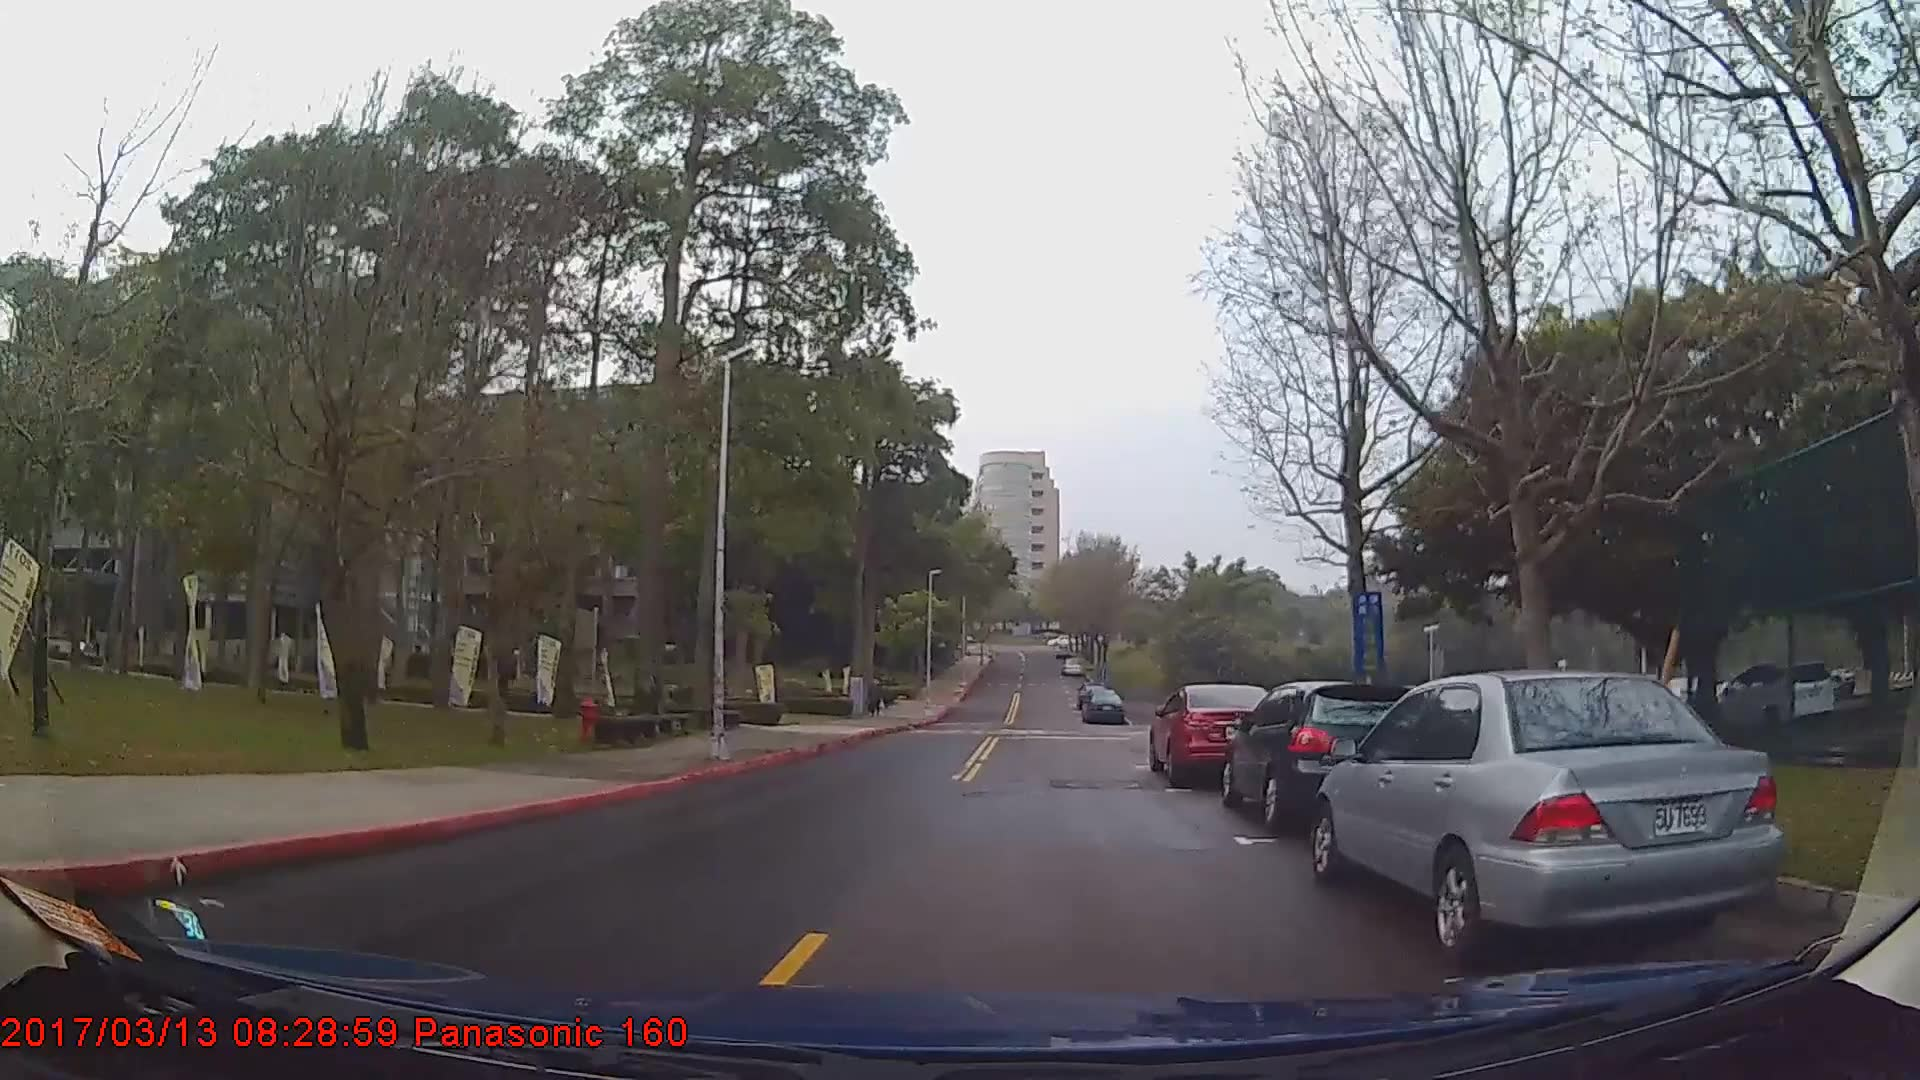vehicle: (1309, 671, 1784, 957), (1218, 676, 1428, 822), (1149, 678, 1287, 789), (1724, 659, 1836, 725), (1083, 687, 1126, 725)
